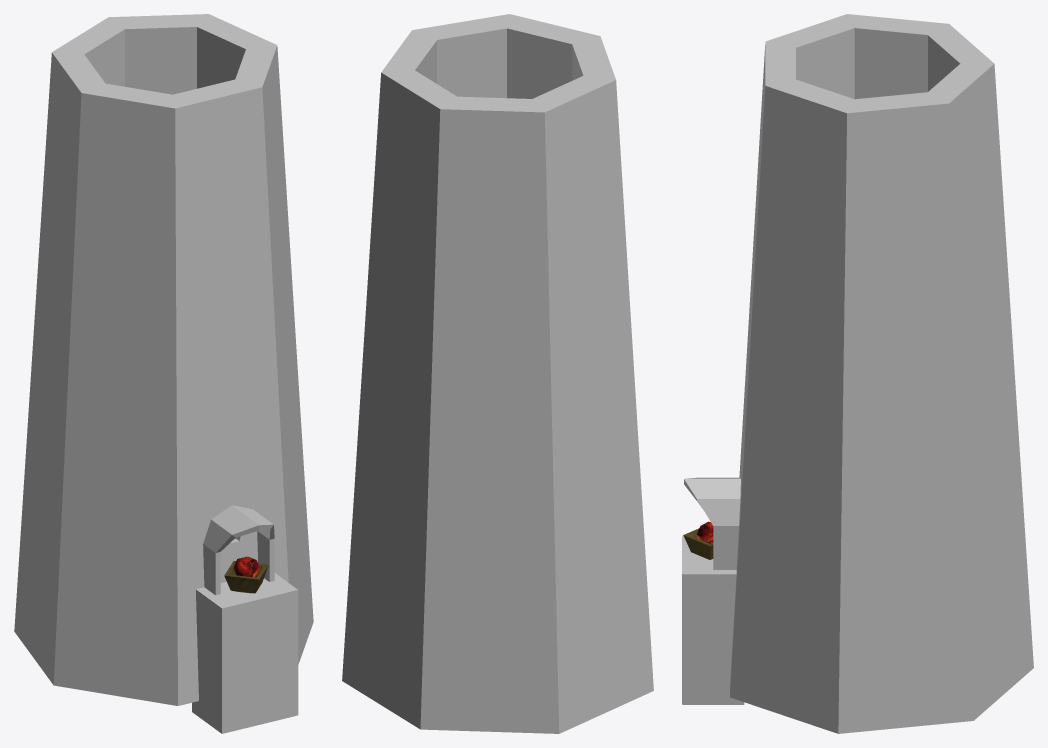
The model's file is Furance.fbx.
3 views of the same model, side by side, from view 1: azimuth 30°, elevation 25°; view 2: azimuth 150°, elevation 25°; view 3: azimuth 270°, elevation 25° (orthographic). The views are drawn at different scales.
Parts seen in each view (by area): view 1: Circle, Sphere, Sphere.001; view 2: Circle; view 3: Circle, Sphere.
Part boxes in pixels (<box>): Circle: <box>14,14,313,705</box>; Sphere: <box>192,505,298,733</box>; Sphere.001: <box>224,561,268,593</box>; Circle: <box>342,14,653,733</box>; Circle: <box>730,14,1033,733</box>; Sphere: <box>682,477,744,704</box>.
Bounding box in the file's own units: 307 × 675 × 347.
